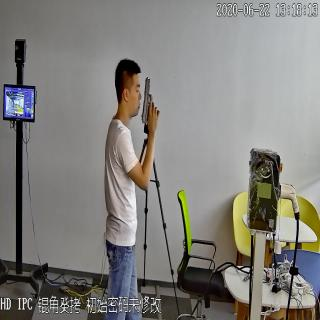gun: (141, 74, 160, 123)
